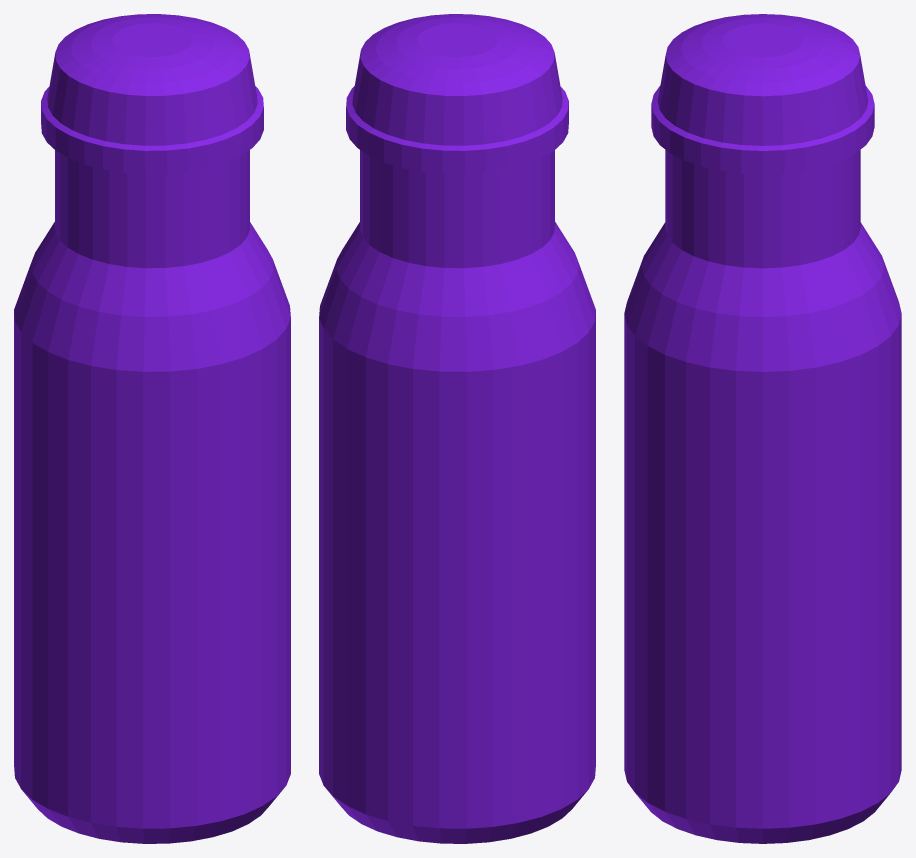
The model's file is water-juicebottle.fbx.
3 renders of one model, left to right at view 1: azimuth 30°, elevation 25°; view 2: azimuth 150°, elevation 25°; view 3: azimuth 270°, elevation 25°, orthographic.
Parts seen in each view (by area): view 1: Cylinder; view 2: Cylinder; view 3: Cylinder.
Part boxes in pixels (box(x1,y1,x2,y2)): Cylinder: box(14, 14, 290, 843); Cylinder: box(319, 14, 595, 843); Cylinder: box(624, 14, 901, 843).
Bounding box in the file's own units: 299 × 905 × 299.
